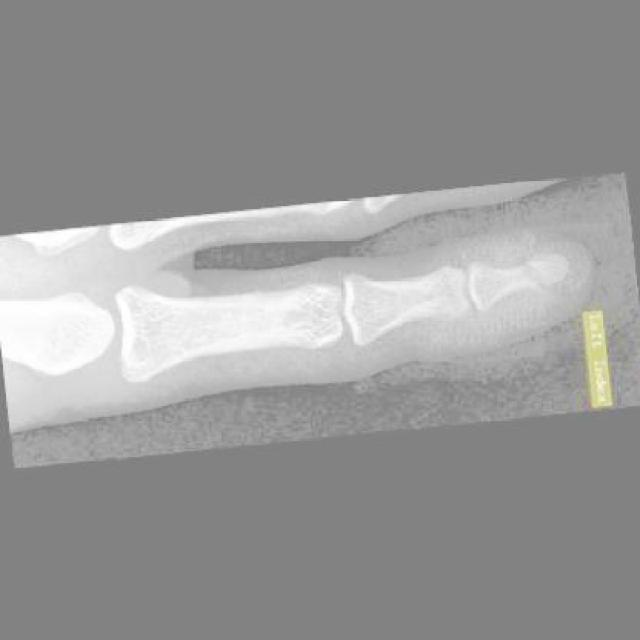Fracture: (510, 249, 559, 294)
